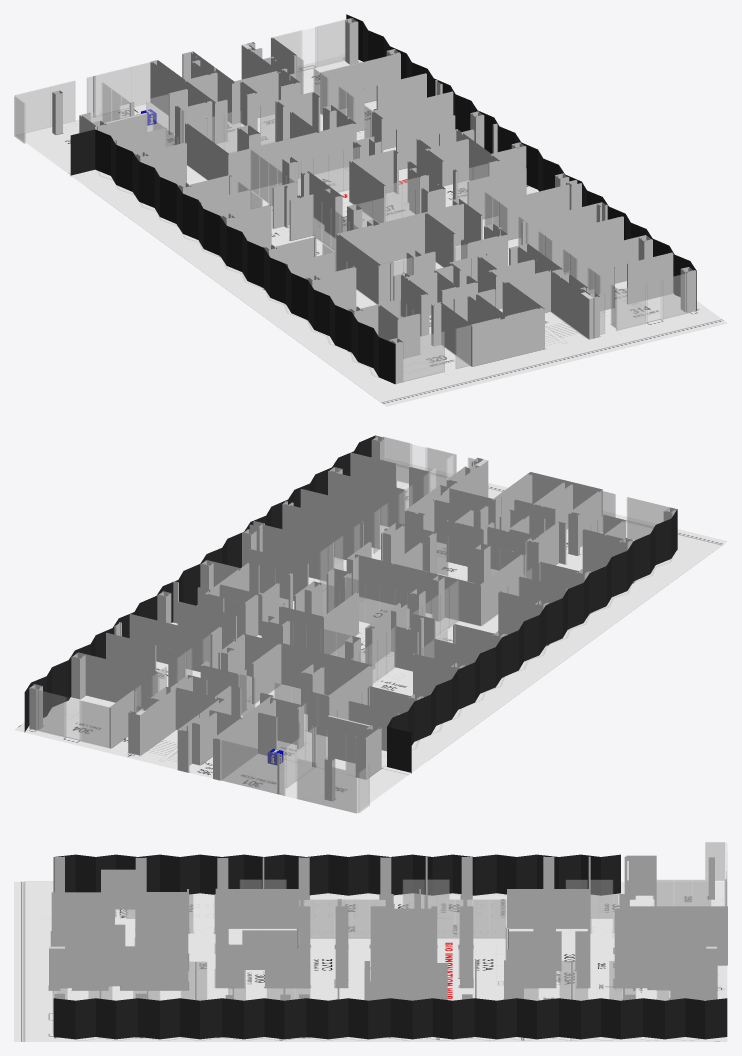
File: floor 3.glb
The picture shows the model from 3 angles, top to bottom: view 1: azimuth 30°, elevation 25°; view 2: azimuth 150°, elevation 25°; view 3: azimuth 270°, elevation 25°; orthographic projection. The views are drawn at different scales.
Parts seen in each view (by area): view 1: walls, exterior, plan_col, windows, interior; view 2: walls, exterior, plan_col, windows; view 3: walls, exterior, plan_col, windows.
Part boxes in pixels (x1,y1,x2,y2): walls: [52, 18, 689, 365]; exterior: [14, 14, 696, 384]; plan_col: [16, 55, 727, 406]; windows: [91, 56, 617, 327]; interior: [104, 113, 147, 143]; walls: [29, 440, 672, 800]; exterior: [24, 435, 677, 813]; plan_col: [14, 458, 727, 813]; windows: [134, 455, 603, 787]; walls: [49, 855, 727, 1000]; exterior: [49, 842, 727, 1039]; plan_col: [14, 881, 727, 1041]; windows: [55, 861, 710, 1000].
Size of what is drawn, in the model's own units: 27.74 by 3.15 by 51.9.
6 materials, 1 textured.
